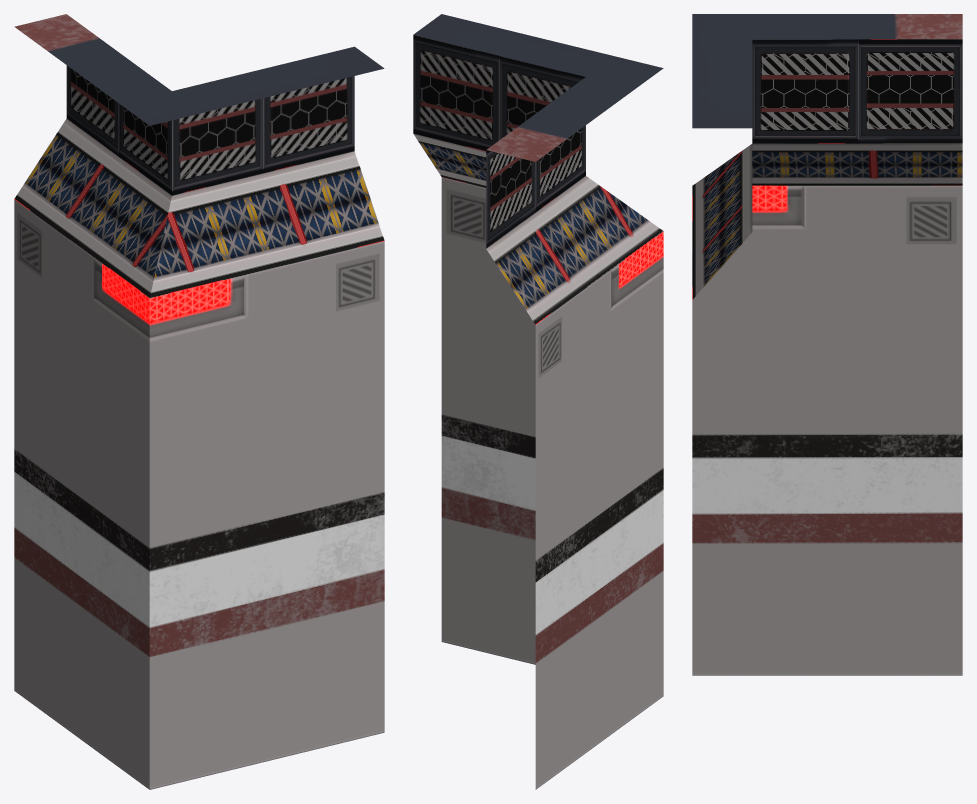
File: FUT0510019.fbx
3 renders of one model, left to right at view 1: azimuth 30°, elevation 25°; view 2: azimuth 150°, elevation 25°; view 3: azimuth 270°, elevation 25°, orthographic. The views are drawn at different scales.
Visible parts, largest first — view 1: smFUT0510019; view 2: smFUT0510019; view 3: smFUT0510019.
Boxes of the visible parts, x1,y1,x2,y2 form: smFUT0510019: [14, 14, 384, 789]; smFUT0510019: [413, 14, 663, 789]; smFUT0510019: [692, 14, 962, 675].
Size of the model in its own units: 176 by 476 by 176.
1 material, 1 textured.
